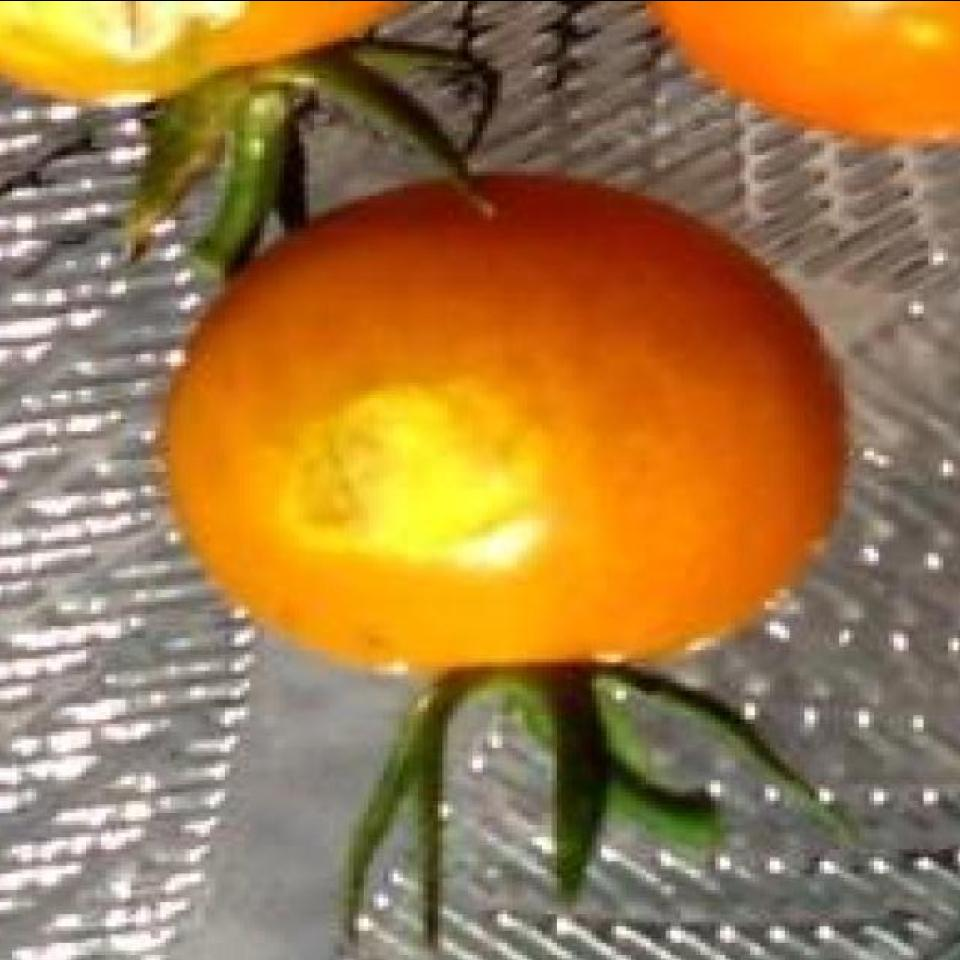Sunscald: (274, 339, 616, 562)
